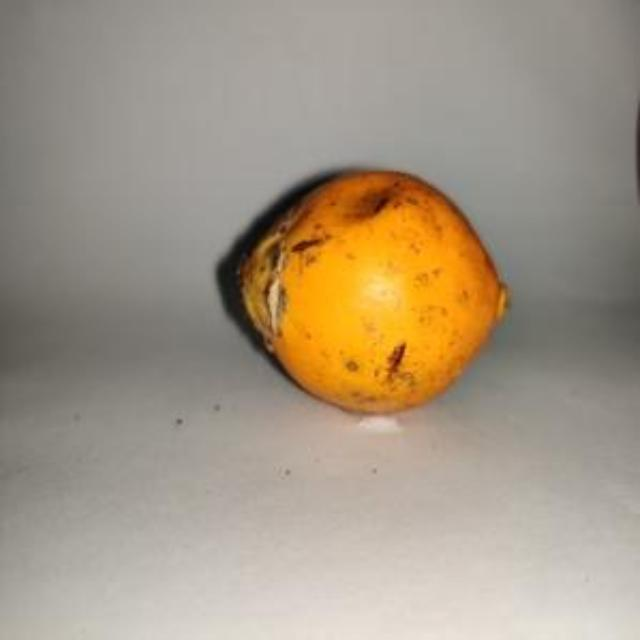good: (227, 169, 509, 415)
